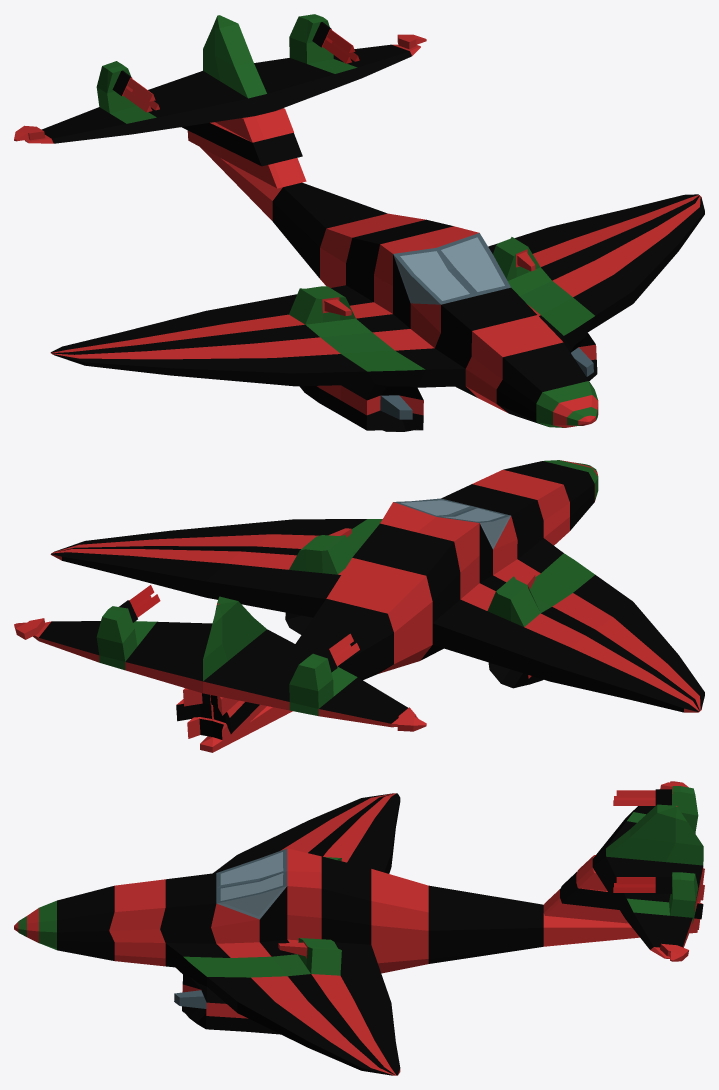
Rendered from MesserschmittV2.fbx.
The picture shows the model from 3 angles, top to bottom: view 1: azimuth 30°, elevation 25°; view 2: azimuth 150°, elevation 25°; view 3: azimuth 270°, elevation 25°; orthographic projection. The views are drawn at different scales.
Visible parts, largest first — view 1: Ship, turret, turret2; view 2: Ship, turret, turret2; view 3: Ship, turret2, turret.
Boxes of the visible parts, bbox=[...] form: Ship: bbox=[14, 14, 704, 431]; turret: bbox=[112, 70, 159, 112]; turret2: bbox=[312, 22, 359, 63]; Ship: bbox=[14, 460, 704, 752]; turret: bbox=[319, 633, 359, 672]; turret2: bbox=[119, 585, 160, 622]; Ship: bbox=[14, 781, 704, 1075]; turret2: bbox=[613, 876, 671, 893]; turret: bbox=[613, 789, 671, 805].
Size of the model in its own units: 4.55 by 1.35 by 4.71.
